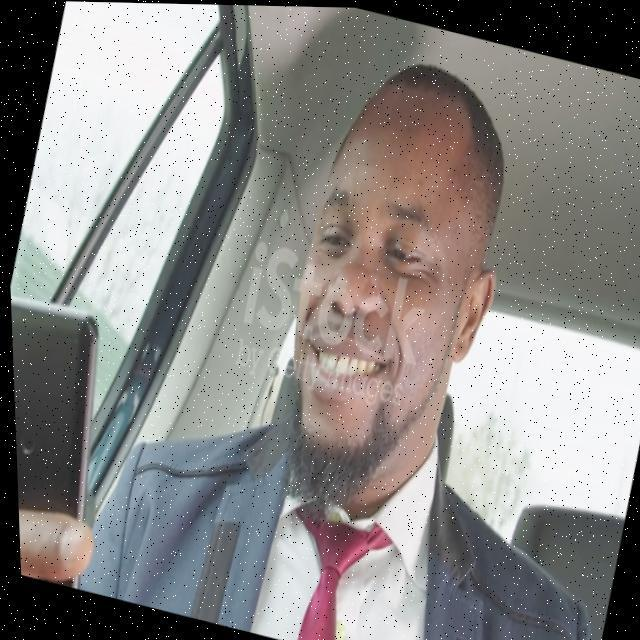PhoneCall: (9, 291, 136, 589)
